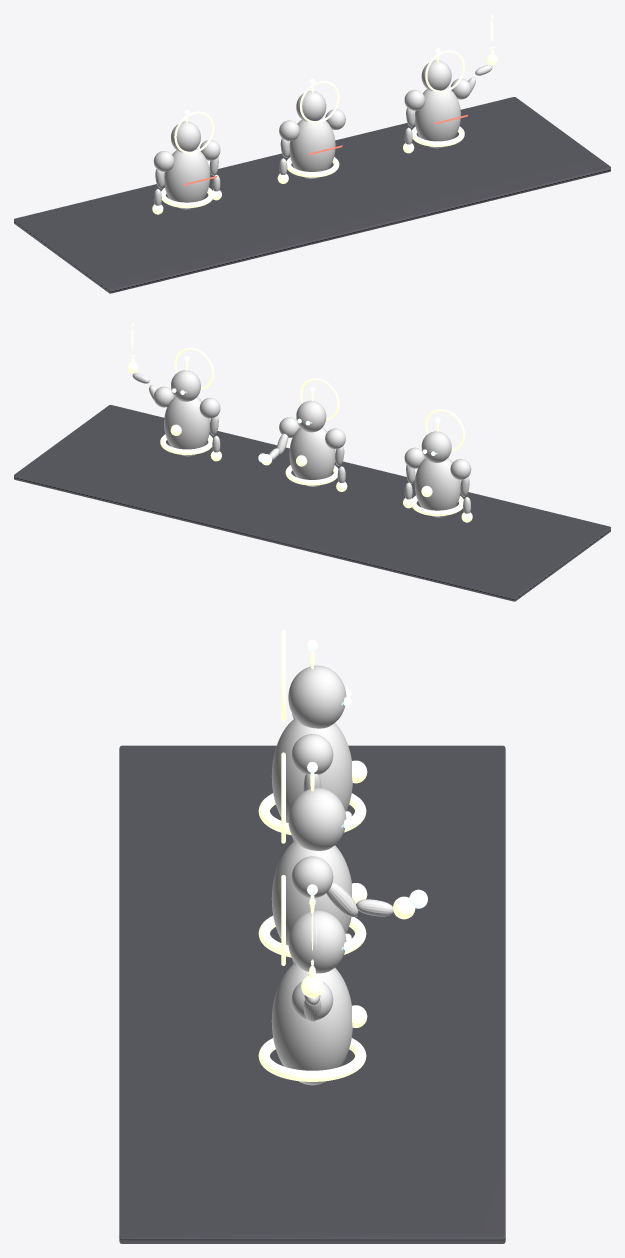
The model's file is globbler_r2_v3.glb.
3 renders of one model, top to bottom at view 1: azimuth 30°, elevation 25°; view 2: azimuth 150°, elevation 25°; view 3: azimuth 270°, elevation 25°, orthographic. The views are drawn at different scales.
Visible parts, largest first — view 1: r2_floor, body, body.001, body.002, head.002, head.001, head, belt.001, belt, belt.002; view 2: r2_floor, body.001, body, body.002, head.002, head, head.001, belt.001, belt, belt.002; view 3: r2_floor, body.002, body, body.001, head, head.001, head.002, belt.002, sh_r.001, sh_r, belt.001, belt.
Boxes of the visible parts, x1=… form: r2_floor: x1=14, y1=97, x2=610, y2=293; body: x1=164, y1=148, x2=210, y2=209; body.001: x1=289, y1=118, x2=335, y2=178; body.002: x1=415, y1=87, x2=460, y2=148; head.002: x1=421, y1=60, x2=451, y2=91; head.001: x1=296, y1=91, x2=326, y2=121; head: x1=171, y1=121, x2=200, y2=152; belt.001: x1=286, y1=157, x2=339, y2=177; belt: x1=161, y1=187, x2=213, y2=208; belt.002: x1=412, y1=126, x2=464, y2=146; r2_floor: x1=14, y1=405, x2=610, y2=601; body.001: x1=289, y1=427, x2=335, y2=486; body: x1=414, y1=458, x2=460, y2=517; body.002: x1=164, y1=396, x2=209, y2=456; head.002: x1=171, y1=370, x2=200, y2=401; head: x1=421, y1=431, x2=451, y2=462; head.001: x1=296, y1=400, x2=326, y2=432; belt.001: x1=285, y1=465, x2=338, y2=485; belt: x1=411, y1=495, x2=463, y2=516; belt.002: x1=160, y1=434, x2=212, y2=454; r2_floor: x1=119, y1=745, x2=505, y2=1243; body.002: x1=271, y1=963, x2=352, y2=1085; body: x1=271, y1=718, x2=352, y2=822; body.001: x1=271, y1=841, x2=351, y2=945; head: x1=288, y1=665, x2=346, y2=728; head.001: x1=288, y1=788, x2=346, y2=850; head.002: x1=288, y1=910, x2=346, y2=973; belt.002: x1=258, y1=1038, x2=366, y2=1081; sh_r.001: x1=291, y1=856, x2=333, y2=897; sh_r: x1=291, y1=734, x2=333, y2=774; belt.001: x1=258, y1=915, x2=366, y2=957; belt: x1=258, y1=793, x2=366, y2=835.
Size of the model in its own units: 12 by 3.18 by 4.
